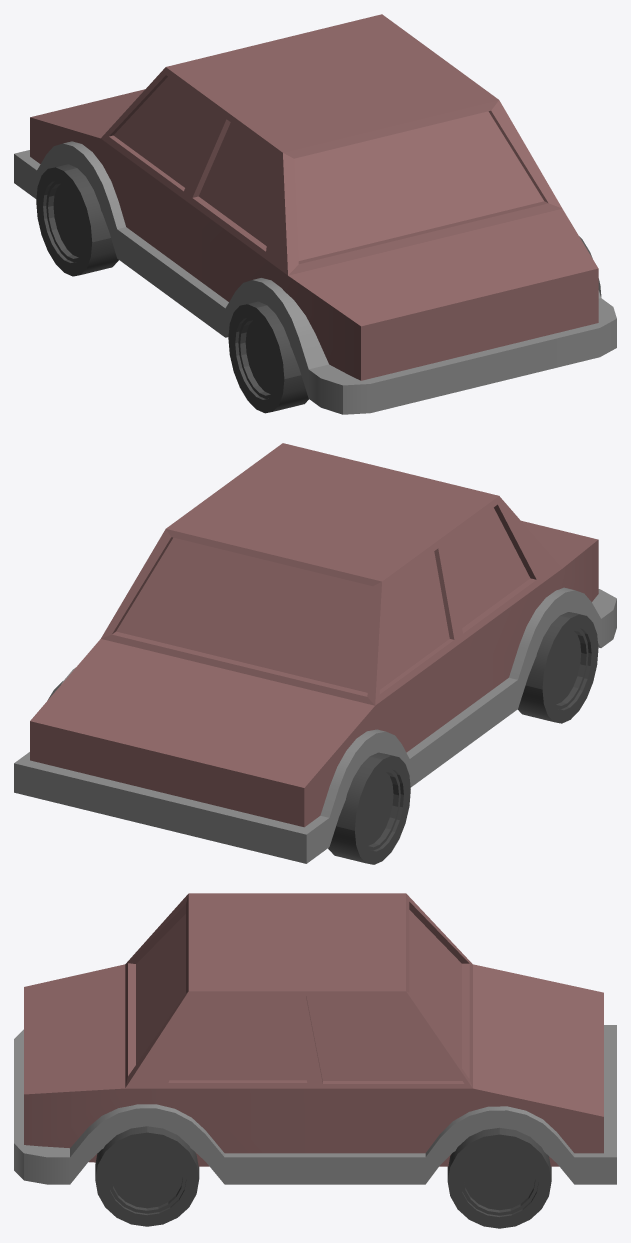
Rendered from Coche.fbx.
3 views of the same model, one above another, from view 1: azimuth 30°, elevation 25°; view 2: azimuth 150°, elevation 25°; view 3: azimuth 270°, elevation 25° (orthographic). The views are drawn at different scales.
Parts seen in each view (by area): view 1: Coche, Abajo1, Rueda2, Rueda5; view 2: Coche, Abajo1, Rueda2, Rueda5; view 3: Coche, Abajo1, Rueda3, Rueda4.
Boxes of the visible parts, bbox=[...] form: Coche: bbox=[30, 14, 598, 380]; Abajo1: bbox=[14, 141, 616, 414]; Rueda2: bbox=[36, 164, 118, 276]; Rueda5: bbox=[228, 301, 308, 413]; Coche: bbox=[30, 443, 598, 827]; Abajo1: bbox=[14, 587, 616, 863]; Rueda2: bbox=[328, 752, 410, 864]; Rueda5: bbox=[518, 612, 598, 723]; Coche: bbox=[24, 893, 603, 1166]; Abajo1: bbox=[14, 1025, 616, 1184]; Rueda3: bbox=[447, 1127, 551, 1228]; Rueda4: bbox=[95, 1126, 199, 1226].
Bounding box in the file's own units: 5.09 × 3.49 × 8.93.
